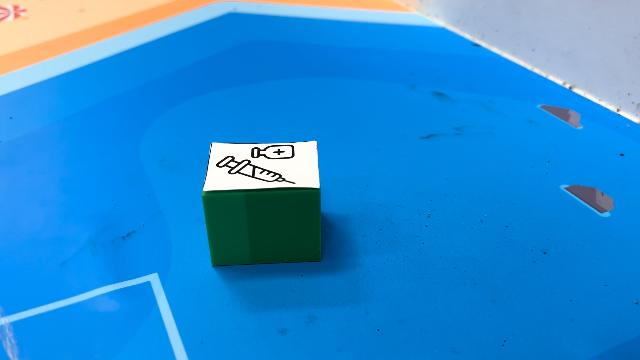syringe: (202, 139, 322, 266)
